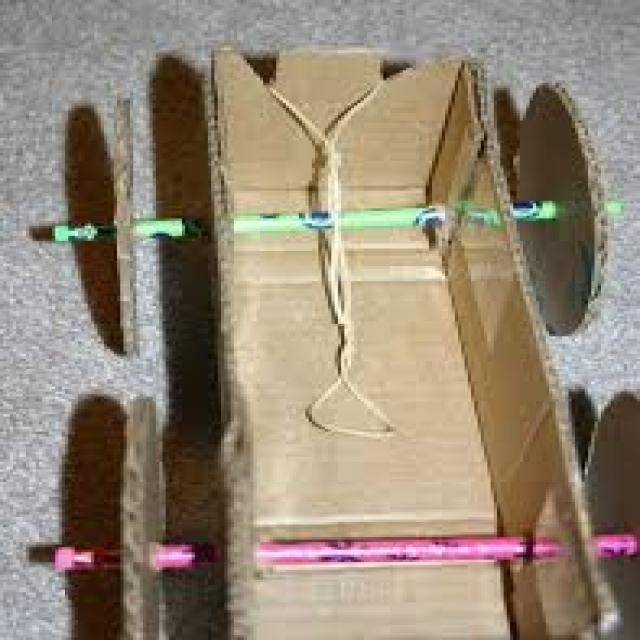Cardboard: (212, 54, 622, 636)
